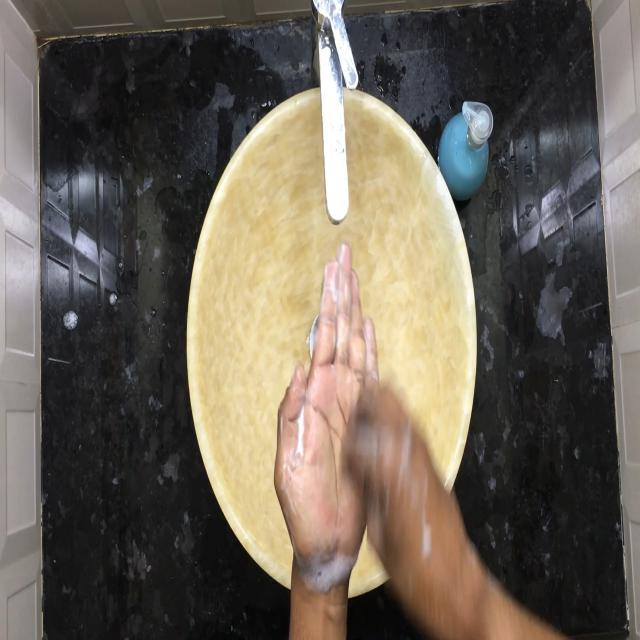step_6: (266, 241, 457, 604)
